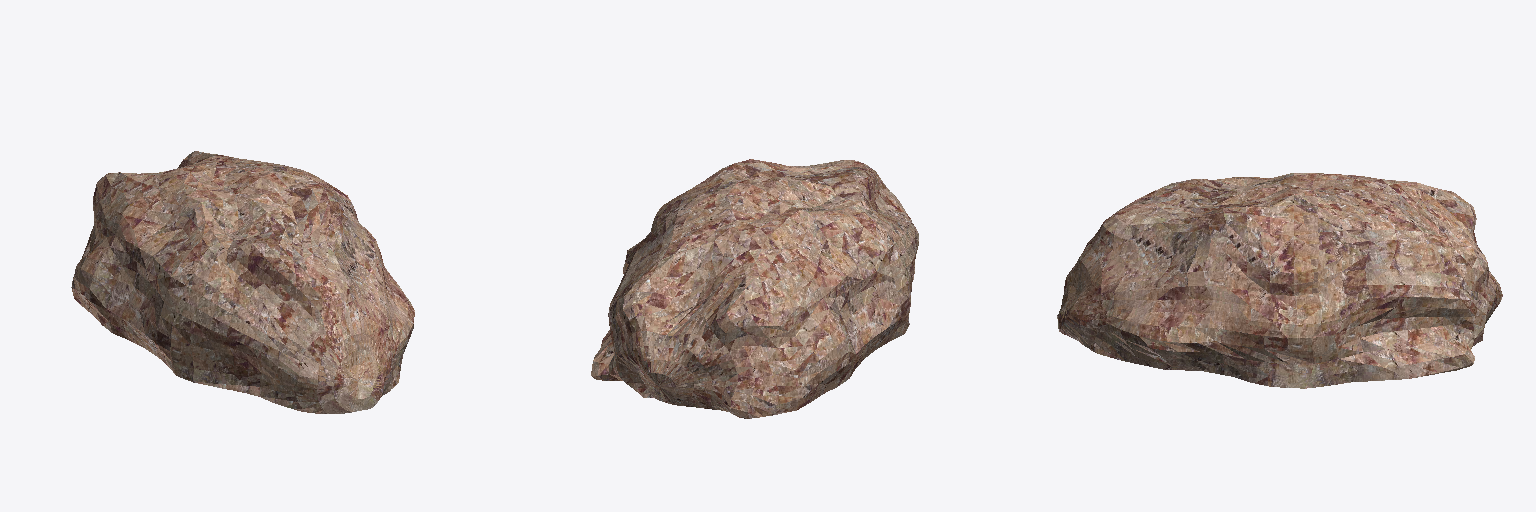
3 views of the same model, side by side, from view 1: azimuth 30°, elevation 25°; view 2: azimuth 150°, elevation 25°; view 3: azimuth 270°, elevation 25° (orthographic).
Visible parts, largest first — view 1: Mesh1 Group1 Model; view 2: Mesh1 Group1 Model; view 3: Mesh1 Group1 Model.
Boxes of the visible parts, x1=… form: Mesh1 Group1 Model: x1=71, y1=151, x2=414, y2=413; Mesh1 Group1 Model: x1=591, y1=159, x2=918, y2=418; Mesh1 Group1 Model: x1=1057, y1=173, x2=1502, y2=388.
Size of the model in its own units: 0.0968 by 0.0542 by 0.1504.
Materials: 1 (1 with a texture image).